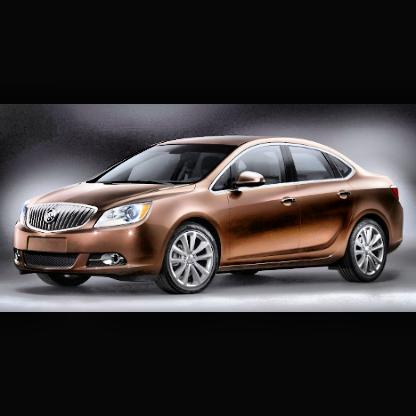Buick Verano Sedan 2012: (16, 136, 406, 295)
